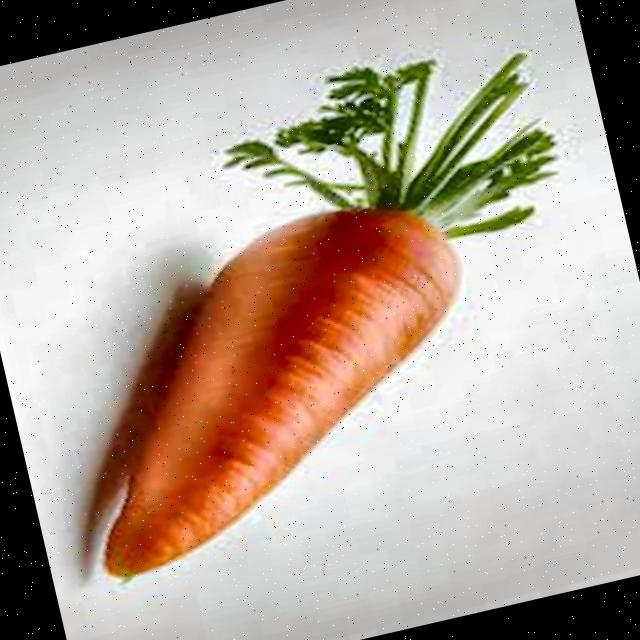carrot: (104, 55, 555, 578)
